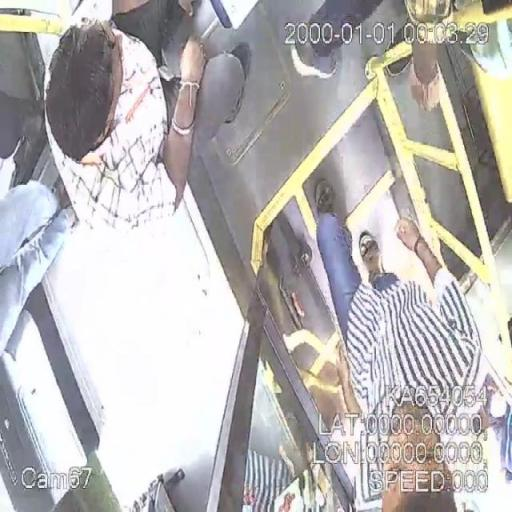persona: (312, 177, 510, 511), (2, 6, 250, 244)
